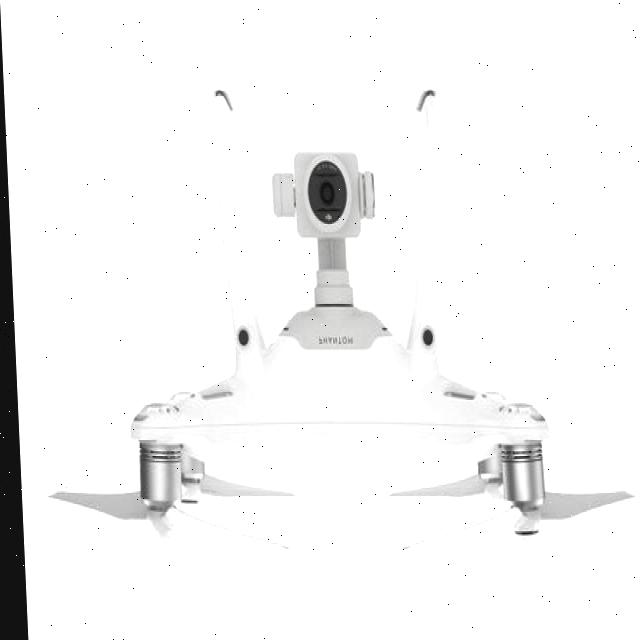drone: (46, 168, 640, 586)
